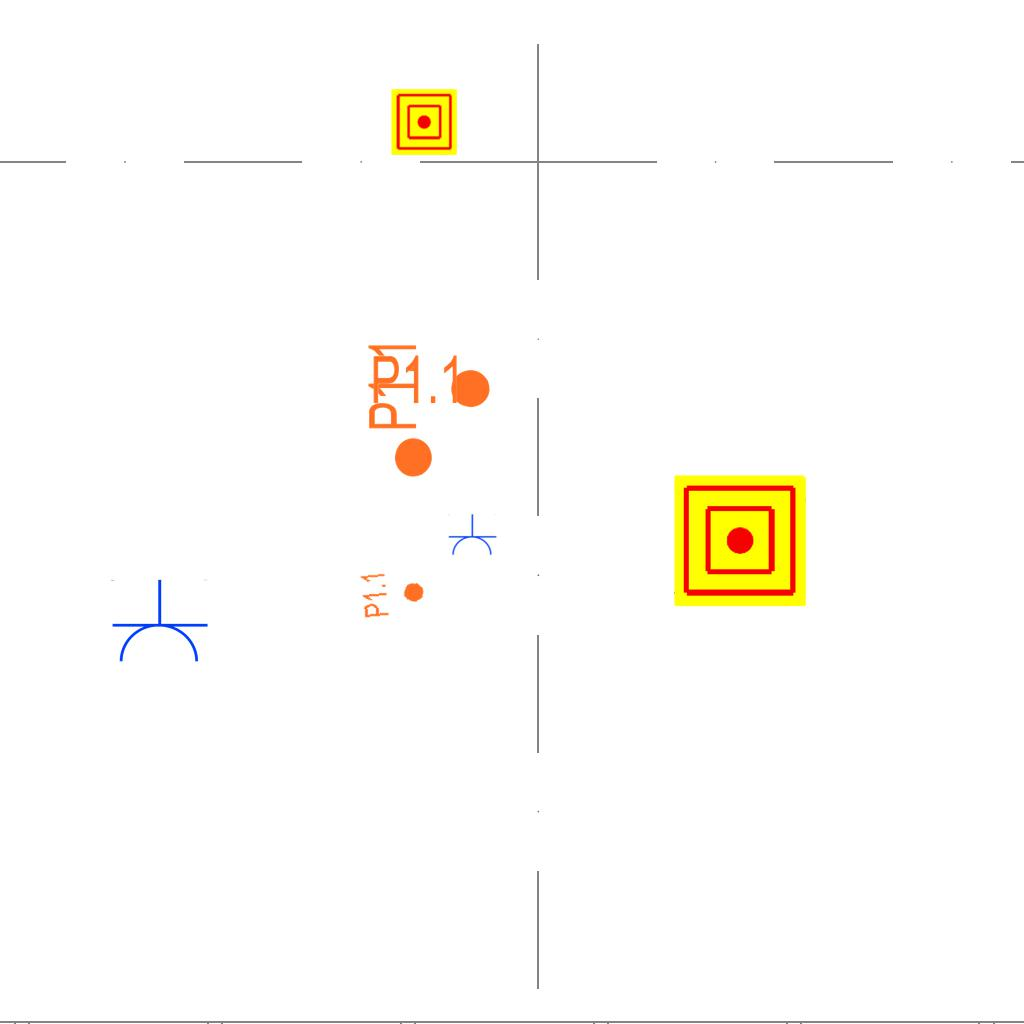Downlight_LED_Einbauleuchten_Flur: (365, 339, 493, 432), (370, 352, 463, 480), (358, 566, 428, 620)
NAM-Nichtautomatischer_Melder: (674, 475, 806, 607), (391, 89, 457, 155)
Schukosteckdose_einfach: (109, 579, 209, 666), (447, 514, 497, 557)
